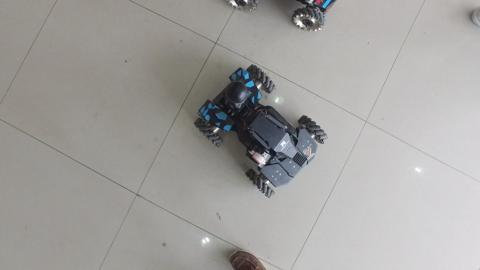chariot: (184, 55, 333, 198)
